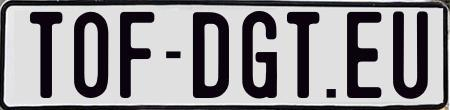0: (73, 11, 107, 98)
D: (193, 10, 230, 102)
E: (347, 9, 382, 100)
F: (117, 9, 157, 100)
G: (242, 10, 280, 100)
T: (286, 12, 319, 103), (27, 12, 60, 102)
U: (393, 11, 434, 103)
